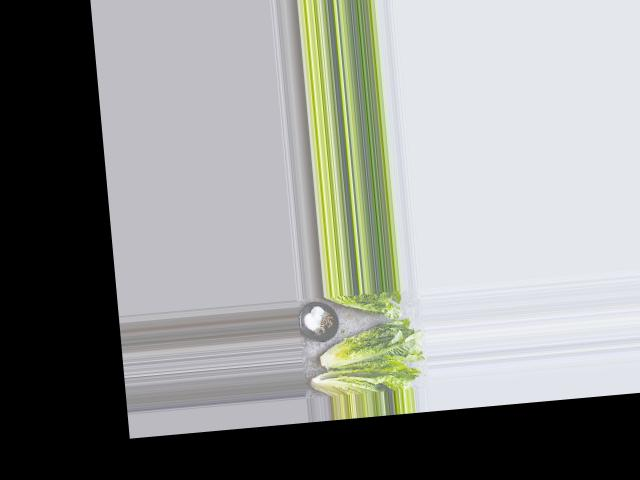lettuce: (303, 359, 414, 397)
